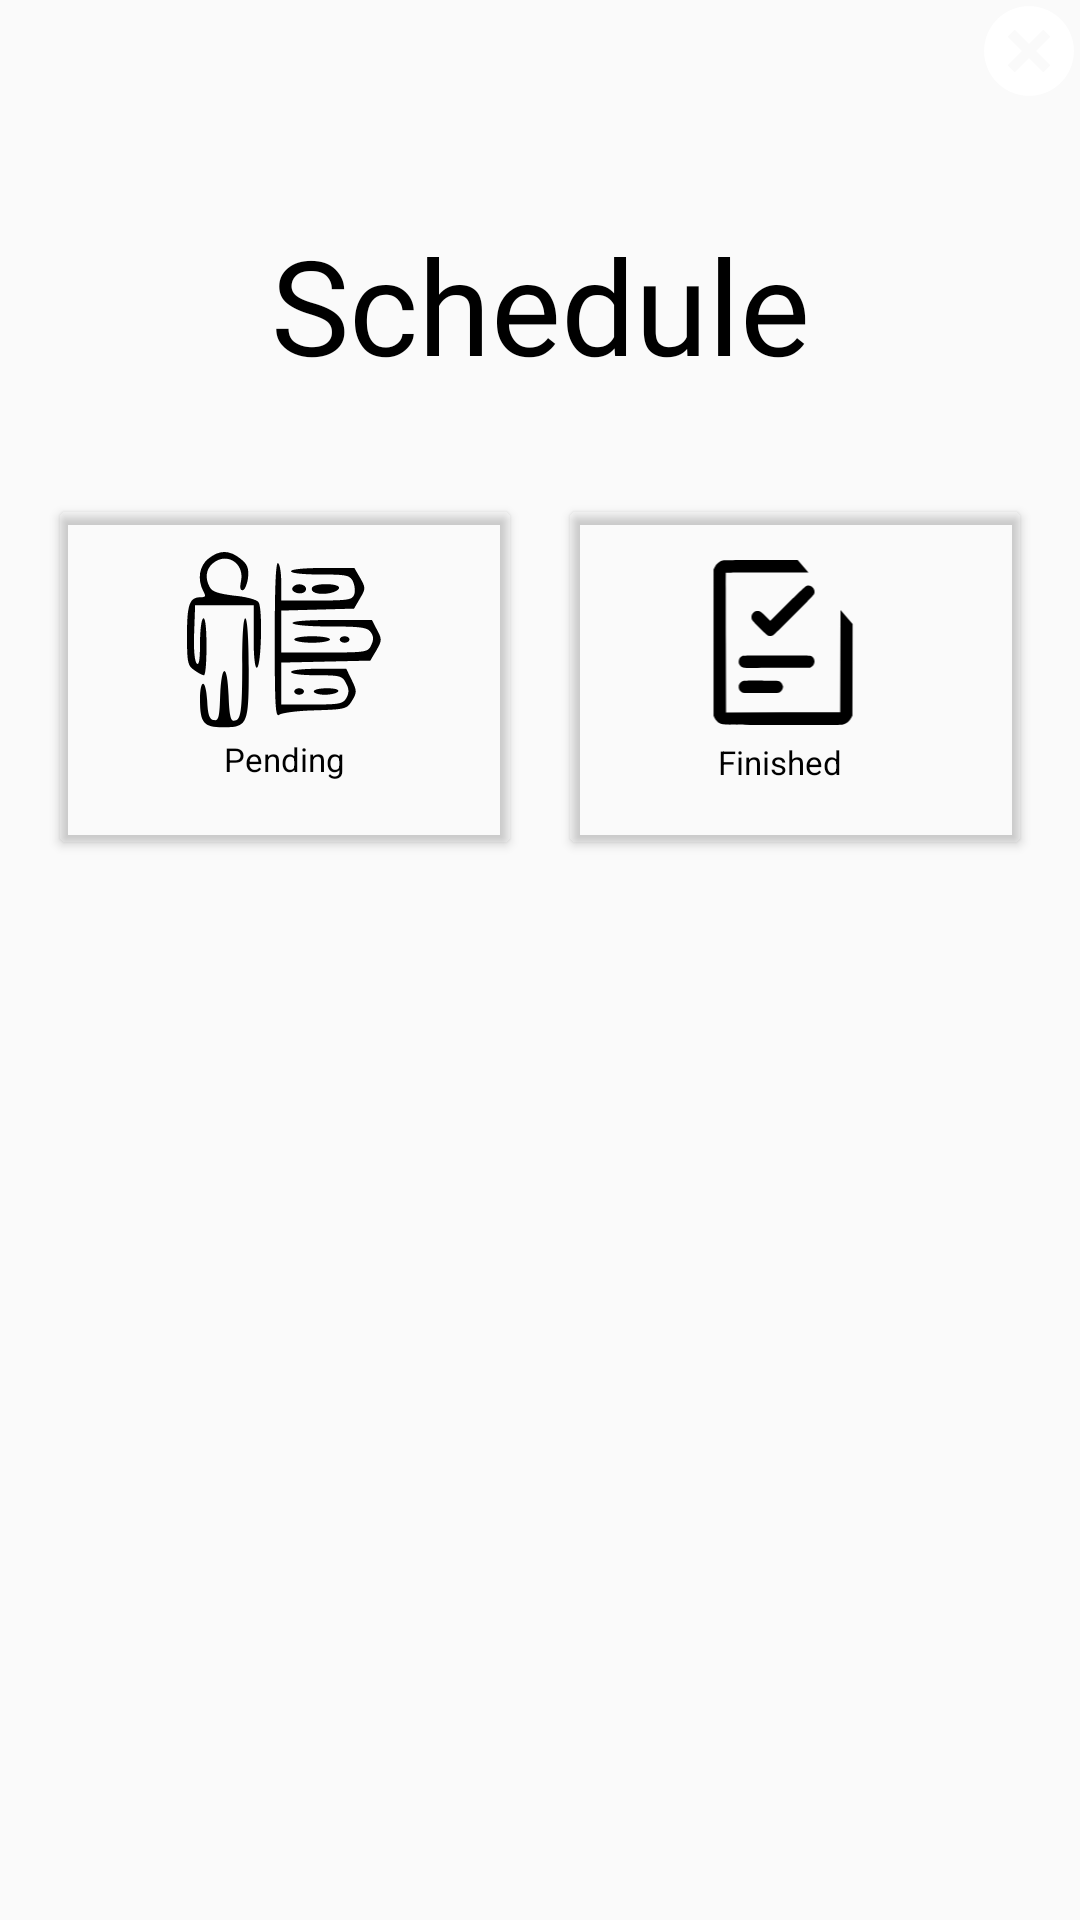

Icons on this 1080*1920 Android screen, each with the point to tap as point (x, y):
personinfo: point (284, 640)
